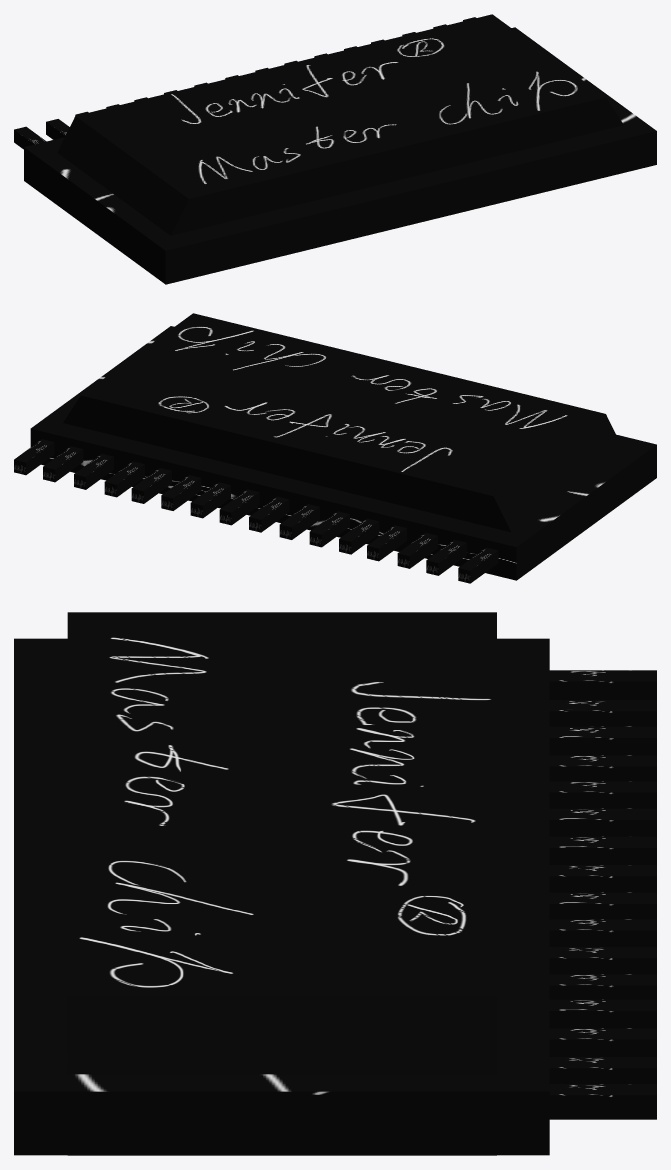
File: chip.fbx
3 views of the same model, one above another, from view 1: azimuth 30°, elevation 25°; view 2: azimuth 150°, elevation 25°; view 3: azimuth 270°, elevation 25° (orthographic). The views are drawn at different scales.
Parts seen in each view (by area): view 1: pCube2, pCube1, pCube18; view 2: pCube2, pCube1, pCube4, pCube3, pCube8, pCube11, pCube13, pCube14, pCube17, pCube6, pCube7, pCube10 (+6 smaller); view 3: pCube2, pCube1, pCube3, pCube18, pCube6, pCube16, pCube5, pCube12, pCube13, pCube9, pCube11, pCube14 (+6 smaller).
Part boxes in pixels (box(x1,y1,x2,y2)): pCube2: box(57, 14, 623, 235); pCube1: box(24, 27, 656, 284); pCube18: box(14, 126, 46, 149); pCube2: box(63, 313, 623, 532); pCube1: box(30, 326, 656, 580); pCube4: box(43, 446, 83, 482); pCube3: box(14, 439, 54, 475); pCube8: box(161, 475, 201, 510); pCube11: box(249, 496, 289, 532); pCube13: box(309, 511, 349, 547); pCube14: box(339, 518, 379, 554); pCube17: box(426, 540, 466, 575); pCube6: box(104, 461, 144, 497); pCube7: box(131, 468, 171, 503); pCube10: box(219, 489, 259, 525); pCube2: box(67, 612, 496, 1155); pCube1: box(14, 638, 549, 1155); pCube3: box(549, 1084, 656, 1119); pCube18: box(549, 670, 656, 699); pCube6: box(549, 999, 656, 1028); pCube16: box(549, 726, 656, 755); pCube5: box(549, 1028, 656, 1056); pCube12: box(549, 836, 656, 864); pCube13: box(549, 808, 656, 836); pCube9: box(549, 919, 656, 946); pCube11: box(549, 865, 656, 892); pCube14: box(549, 781, 656, 808).
Bounding box in the file's own units: 2 × 0.2568 × 1.2.
1 material, 1 textured.
